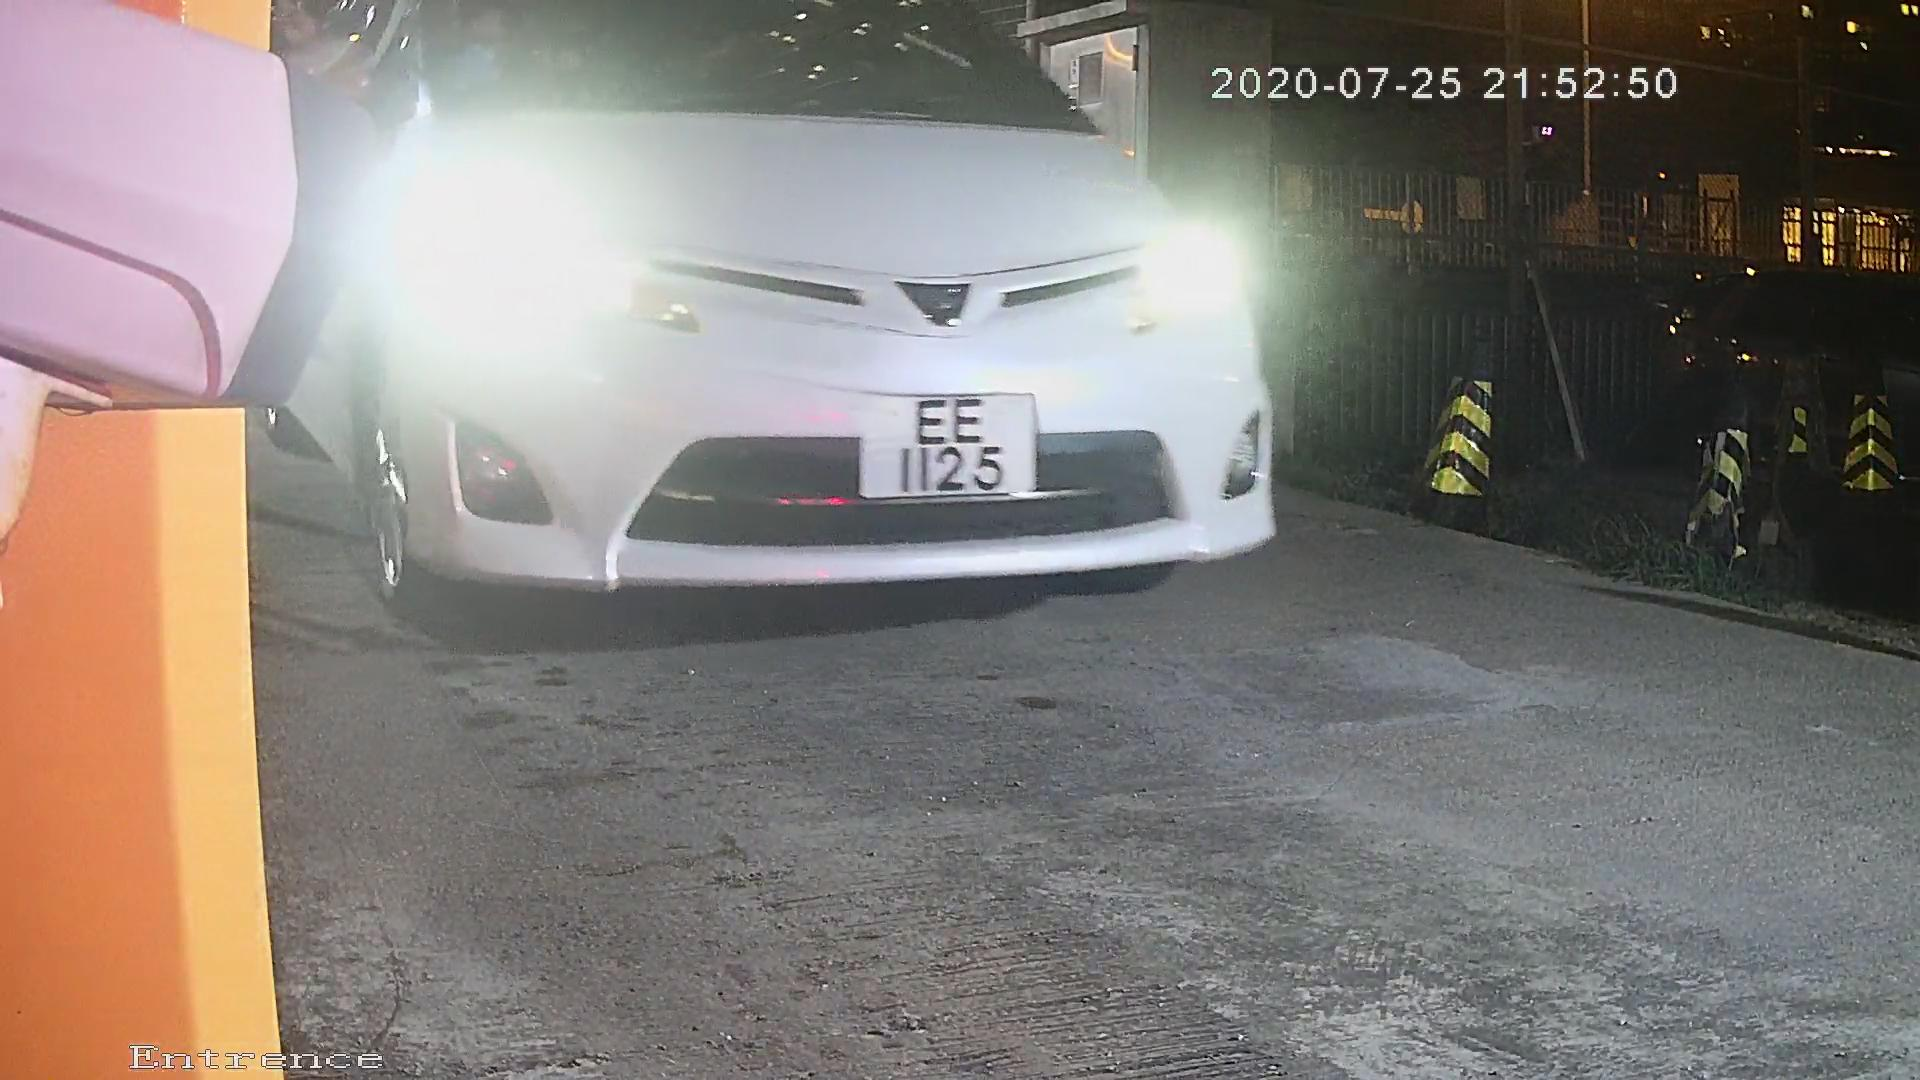Car: (52, 1, 1381, 671)
License Plate: (823, 386, 1055, 516)
